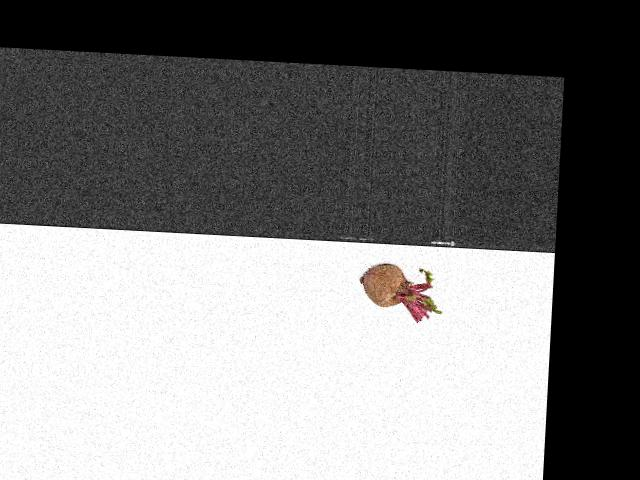beet: (357, 261, 444, 323)
